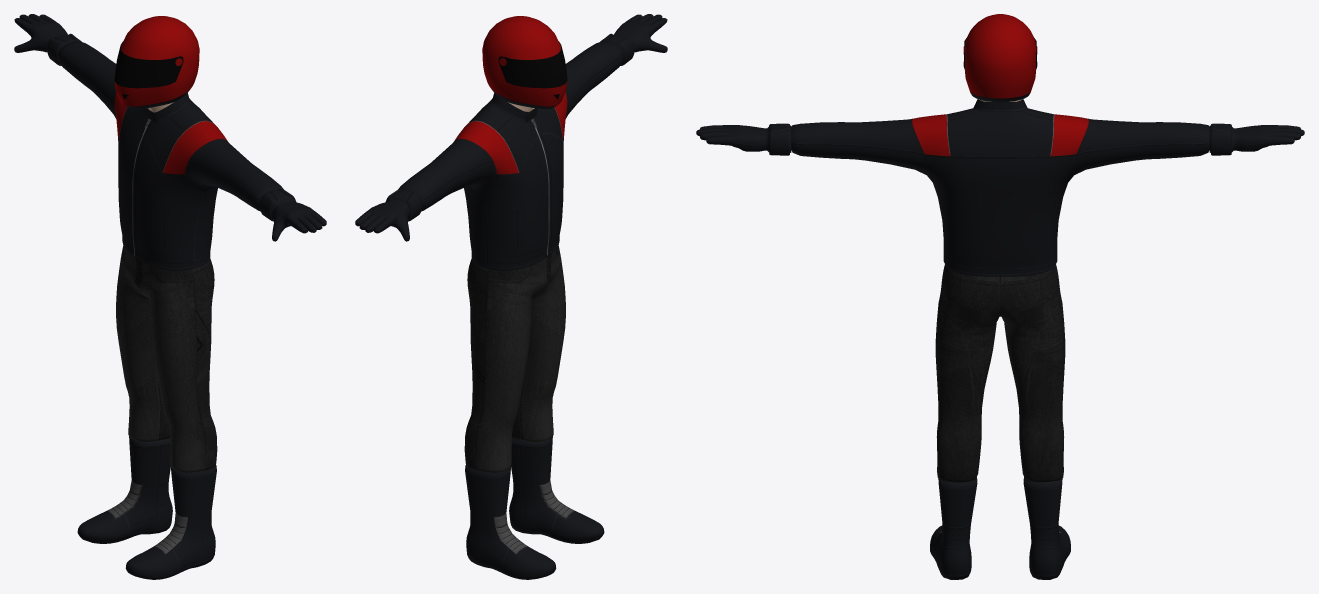
The model's file is biker.fbx.
The picture shows the model from 3 angles, left to right: view 1: azimuth 30°, elevation 25°; view 2: azimuth 150°, elevation 25°; view 3: azimuth 270°, elevation 25°; orthographic projection. The views are drawn at different scales.
Parts seen in each view (by area): view 1: Cube_006; view 2: Cube_006; view 3: Cube_006.
Boxes of the visible parts, box(x1,y1,x2,y2) form: Cube_006: box(14, 14, 326, 579); Cube_006: box(355, 14, 667, 579); Cube_006: box(696, 14, 1304, 579).
Size of the model in its own units: 2.24 by 11.45 by 11.5.
